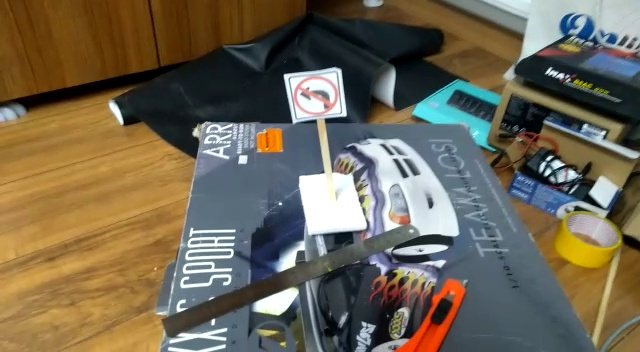sola_donulmez: (292, 70, 339, 118)
